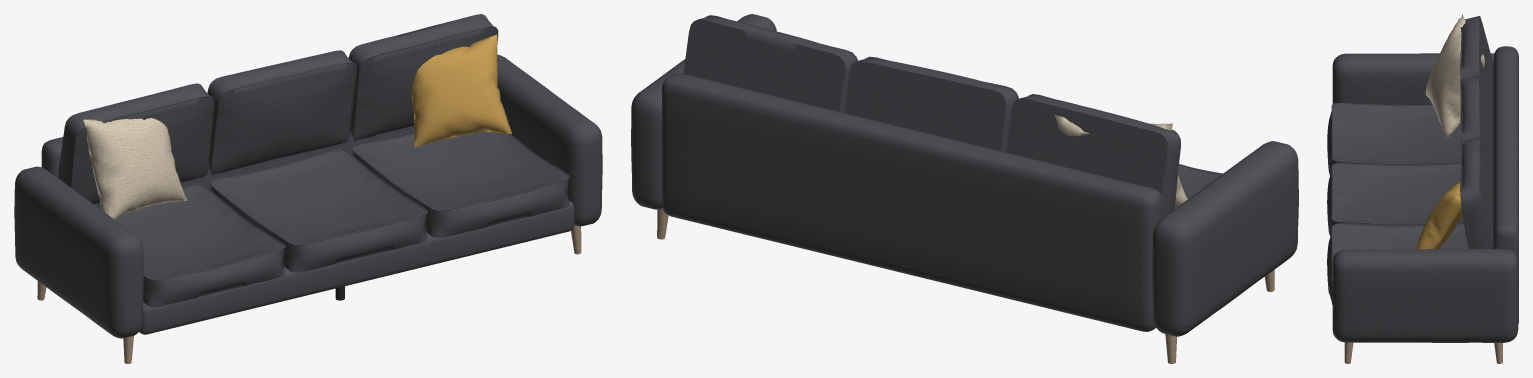
File: sofa_3p_dark.glb
3 views of the same model, side by side, from view 1: azimuth 30°, elevation 25°; view 2: azimuth 150°, elevation 25°; view 3: azimuth 270°, elevation 25° (orthographic). The views are drawn at different scales.
Visible parts, largest first — view 1: sofa_soft, sofa_hard; view 2: sofa_soft, sofa_hard; view 3: sofa_soft, sofa_hard.
Part boxes in pixels (<box>): sofa_soft: <box>14,14,602,338</box>; sofa_hard: <box>37,225,581,363</box>; sofa_soft: <box>631,14,1298,336</box>; sofa_hard: <box>657,208,1274,363</box>; sofa_soft: <box>1327,14,1518,342</box>; sofa_hard: <box>1344,342,1502,363</box>.
Bounding box in the file's own units: 2.41 × 0.8913 × 0.928.
5 materials, 3 textured.
